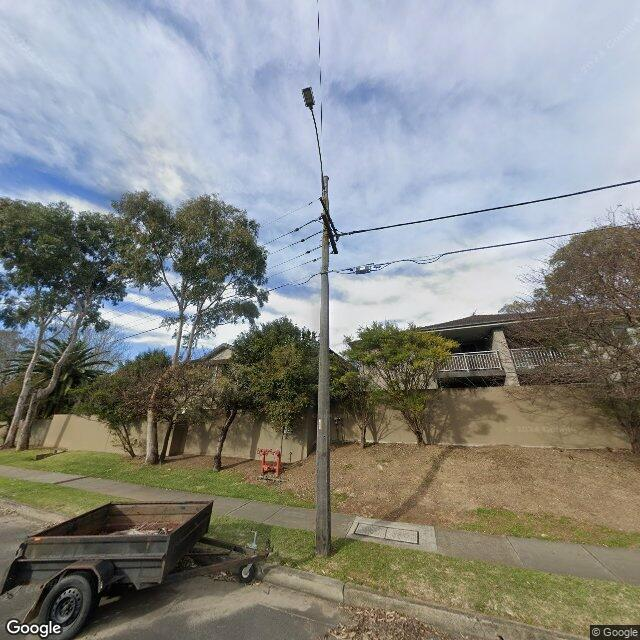crossarm: (319, 196, 339, 241), (321, 213, 338, 255)
streetlight: (300, 86, 326, 196)
timber-pole: (315, 175, 333, 560)
